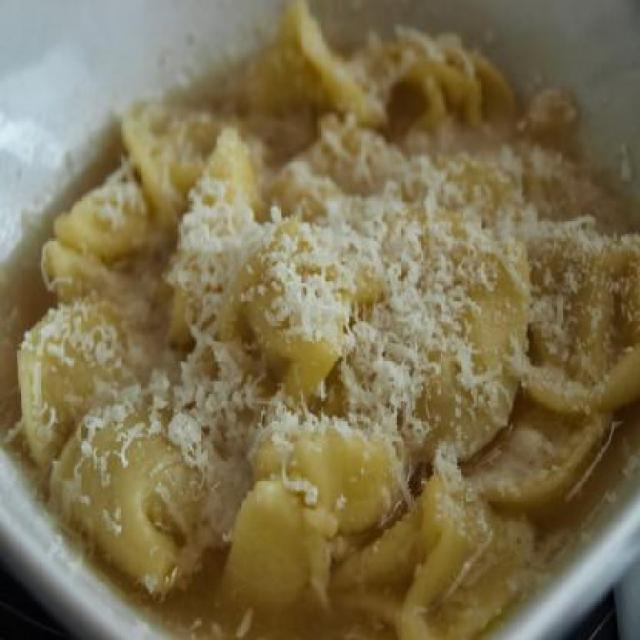Tortellini in broth: (49, 59, 606, 621)
